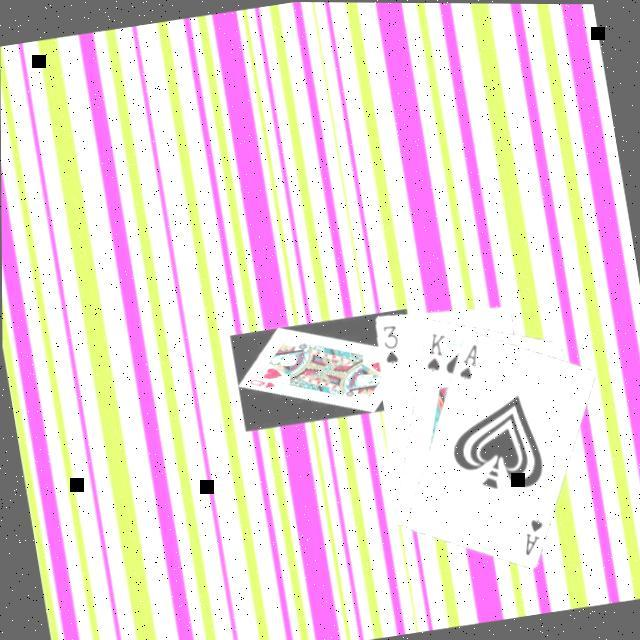3S: (378, 321, 406, 369)
AS: (517, 514, 551, 560), (452, 341, 486, 385)
KS: (418, 329, 455, 377)
